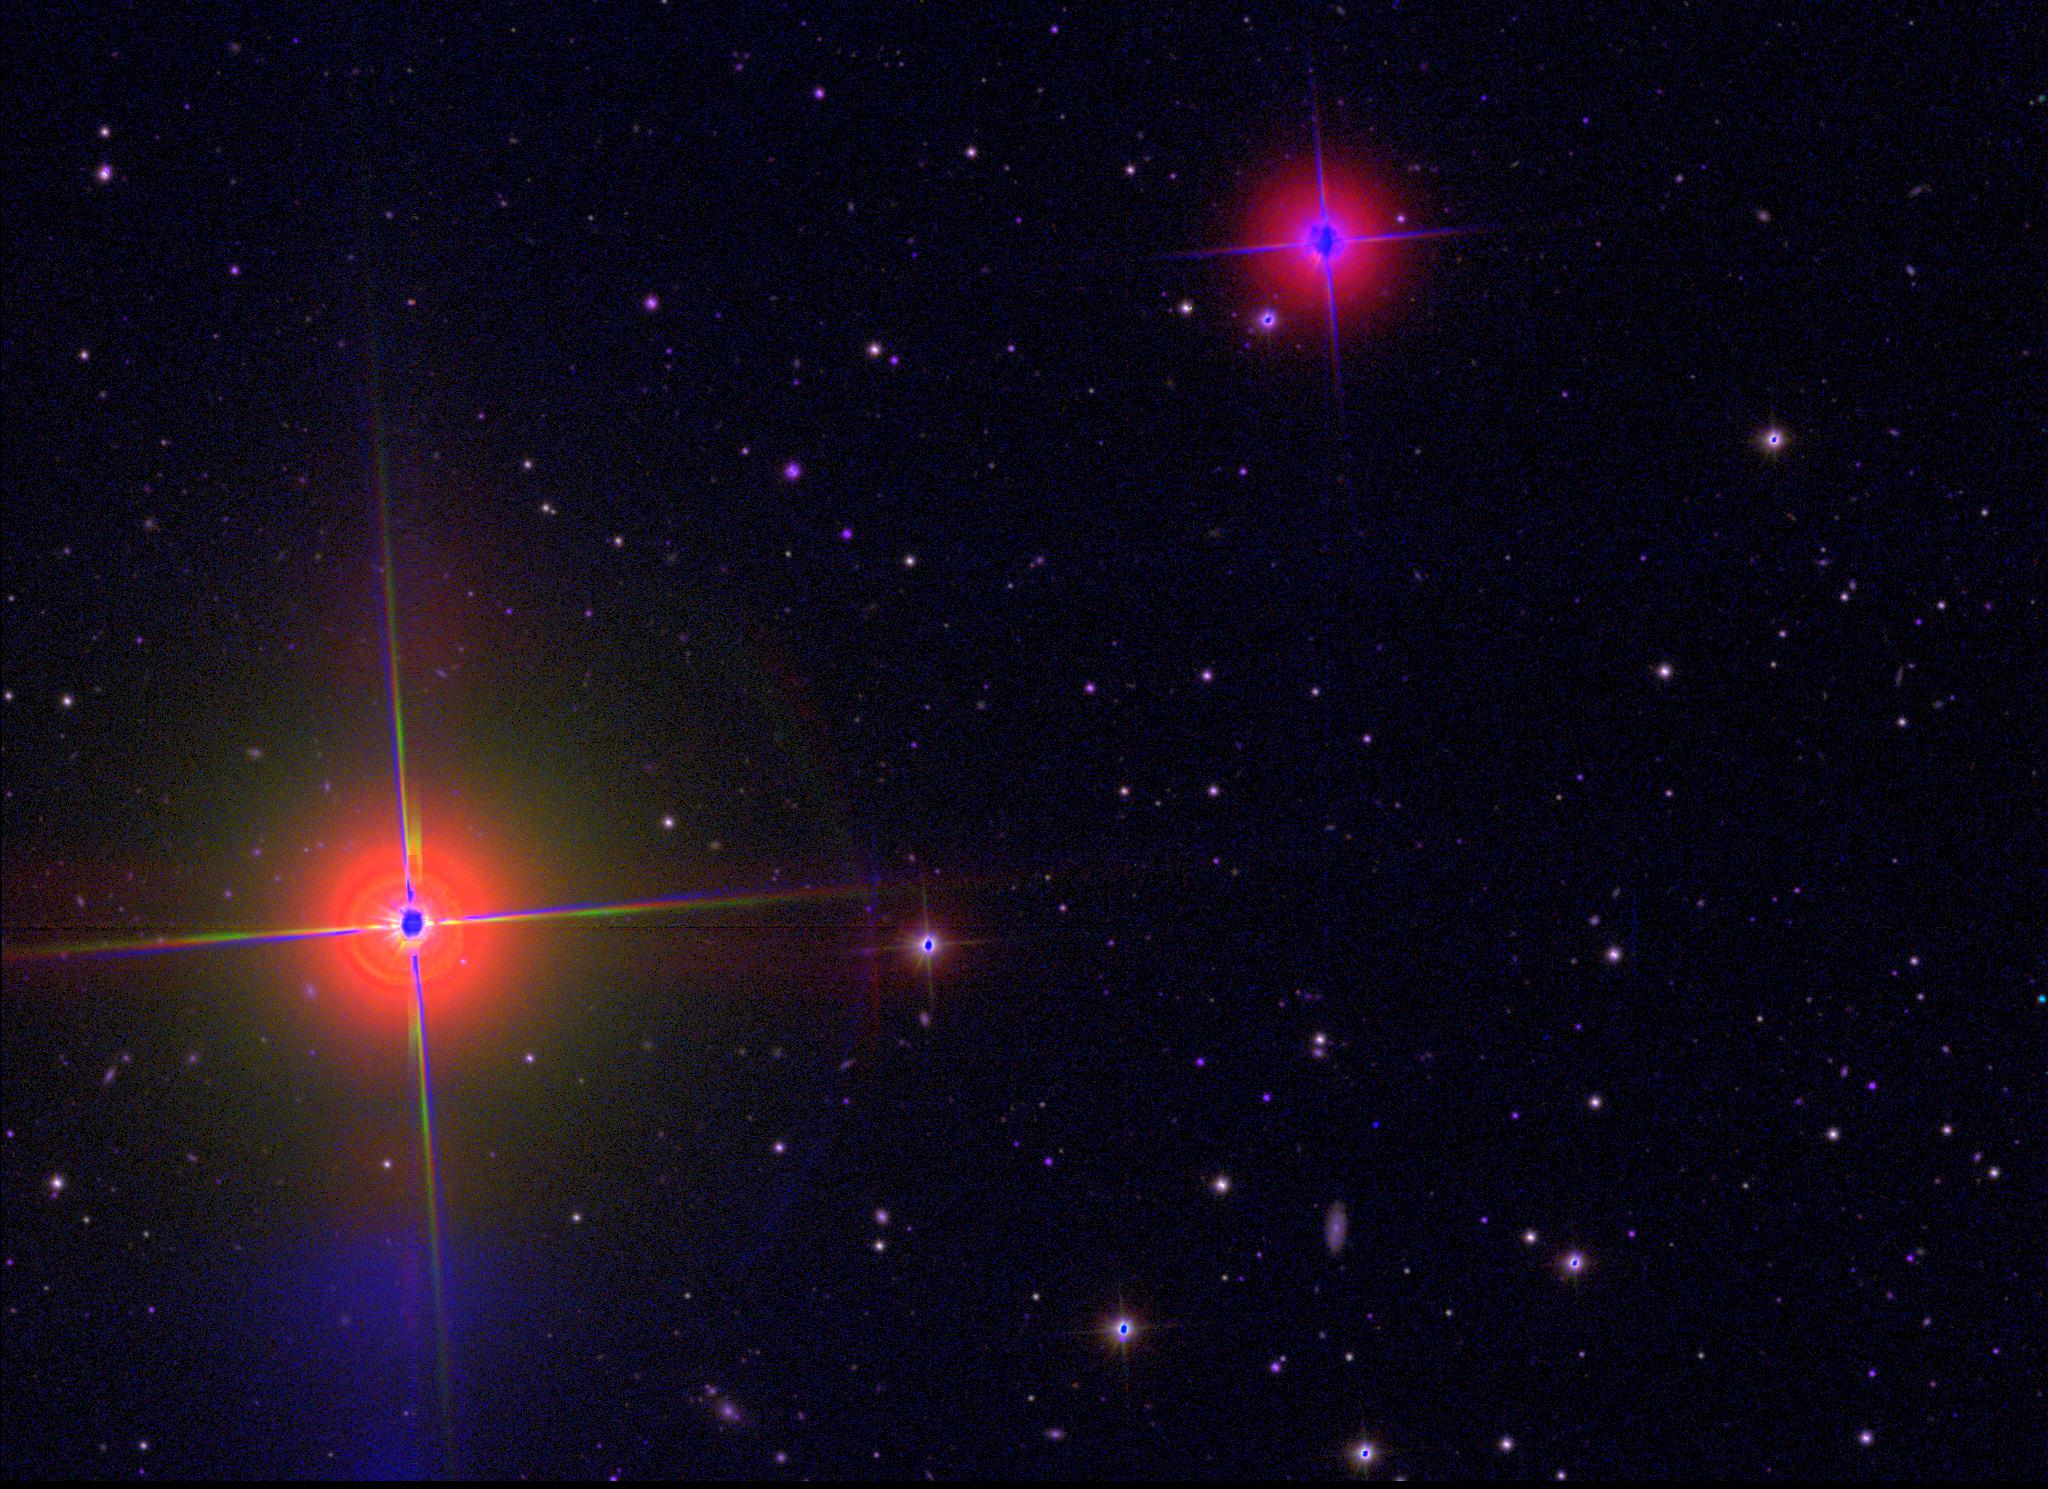L: (1369, 1118, 1383, 1133)
